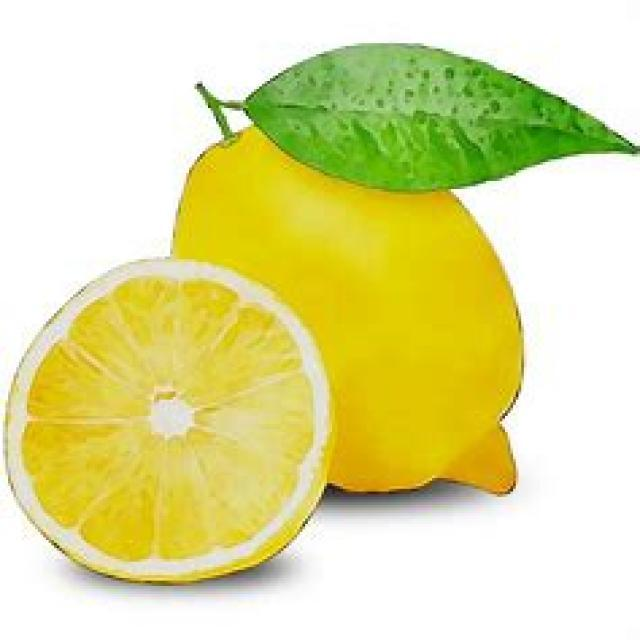lemon: (181, 117, 555, 510), (0, 237, 335, 581)
